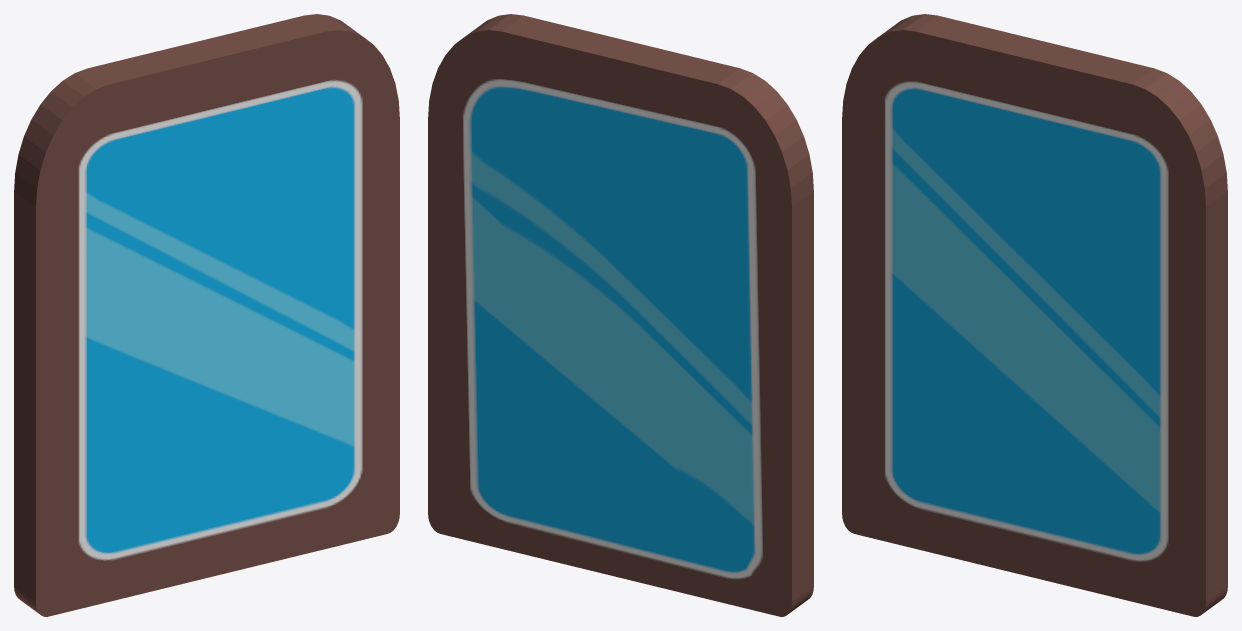
The model's file is Door_Sneaker Game.fbx.
3 renders of one model, left to right at view 1: azimuth 30°, elevation 25°; view 2: azimuth 150°, elevation 25°; view 3: azimuth 330°, elevation 25°, orthographic.
Visible parts, largest first — view 1: Cube.059; view 2: Cube.059; view 3: Cube.059.
Boxes of the visible parts, x1,y1,x2,y2 form: Cube.059: (14,14,399,616); Cube.059: (428,14,813,616); Cube.059: (842,14,1227,616).
Size of the model in its own units: 356 by 483 by 37.16.
